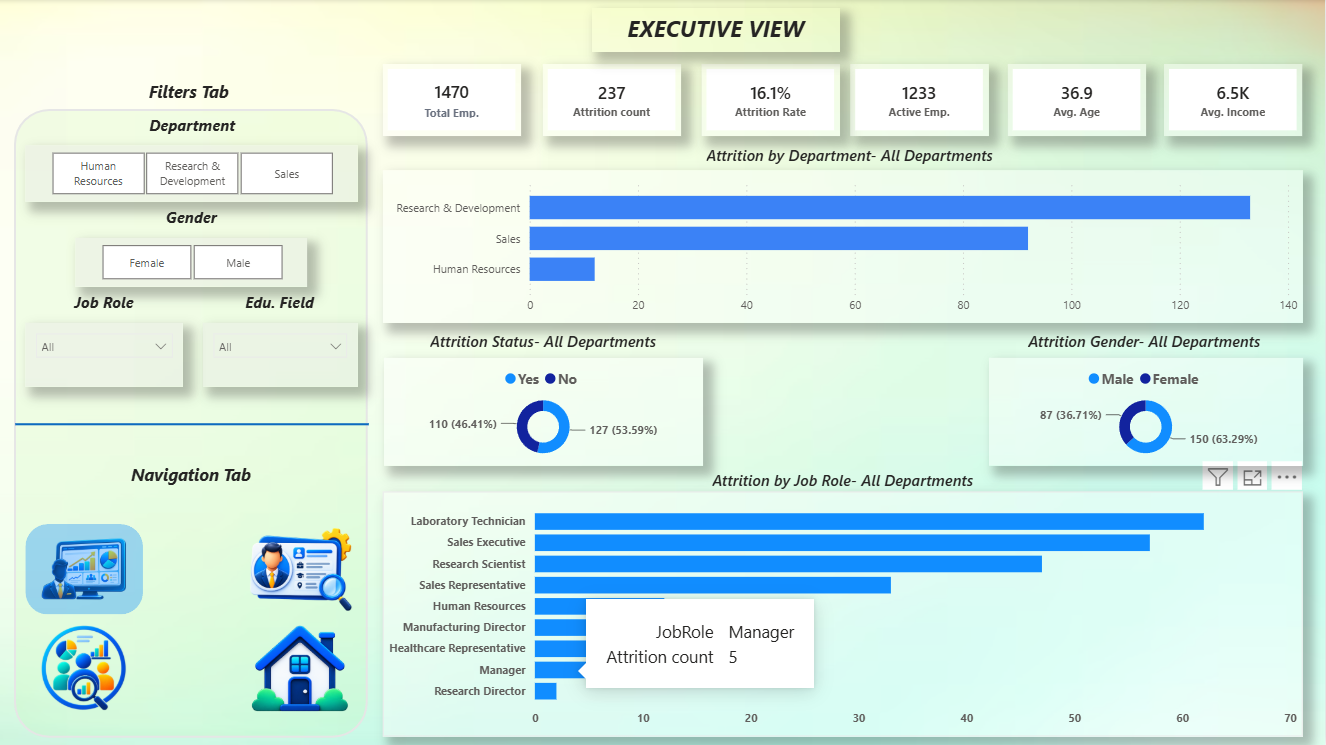

Layout of this report page (visuals, bound fields, positions):
{"tool":"powerbi","page":{"name":"Executive View","canvas":[1280,720],"ordinal":1},"visuals":[{"type":"cardVisual","fields":{"Data":["Key Measures.Total Employee"]},"box":[370.4,62.7,133.9,70],"z":0},{"type":"cardVisual","fields":{"Data":["Key Measures.Attrition count"]},"box":[524.8,62.7,133.9,70],"z":1000},{"type":"cardVisual","fields":{"Data":["Key Measures.Attrition Rate"]},"box":[678,62.7,133.9,70],"z":2000},{"type":"cardVisual","fields":{"Data":["Key Measures.Active Employees"]},"box":[821.6,62.7,133.9,70],"z":3000},{"type":"cardVisual","fields":{"Data":["Key Measures.Average Age"]},"box":[973.6,62.7,133.9,70],"z":4000},{"type":"cardVisual","fields":{"Data":["Key Measures.Average Monthly Income"]},"box":[1124.4,62.7,133.9,70],"z":5000},{"type":"clusteredBarChart","fields":{"Category":["hr_attrition_project hr_attrition.Department"],"Y":["Key Measures.Attrition count"]},"box":[370.4,165.3,887.9,147.2],"z":6000},{"type":"clusteredBarChart","title":"Attrition by Job Role","fields":{"Category":["hr_attrition_project hr_attrition.JobRole"],"Y":["Key Measures.Attrition count"]},"box":[370.4,475.3,887.9,236.5],"z":7000},{"type":"donutChart","title":"Attrition by Over Time","fields":{"Category":["hr_attrition_project hr_attrition.OverTime"],"Y":["Key Measures.Attrition count"]},"box":[371.6,346.2,307.6,103.8],"z":8000},{"type":"donutChart","title":"Attrition by Gender","fields":{"Category":["hr_attrition_project hr_attrition.Gender"],"Y":["Key Measures.Attrition count"]},"box":[955.5,346.2,302.8,103.8],"z":9000},{"type":"shape","box":[14.5,106.2,341.4,606.8],"z":10000},{"type":"slicer","fields":{"Values":["hr_attrition_project hr_attrition.Department"]},"box":[25.3,141.2,320.9,54.3],"z":11000},{"type":"slicer","fields":{"Values":["hr_attrition_project hr_attrition.EducationField"]},"box":[196.6,312.5,149.6,61.5],"z":12000},{"type":"slicer","fields":{"Values":["hr_attrition_project hr_attrition.Gender"]},"box":[73.6,230.4,224.4,47.1],"z":13000},{"type":"slicer","fields":{"Values":["hr_attrition_project hr_attrition.JobRole"]},"box":[25.3,312.5,152,61.5],"z":14000},{"type":"textbox","box":[153.2,195.4,65.1,35],"z":15000},{"type":"textbox","box":[230.4,277.5,80.8,35],"z":16000},{"type":"textbox","box":[59.1,277.5,84.5,35],"z":17000},{"type":"textbox","box":[138.7,106.2,95.3,35],"z":18000},{"type":"cardVisual","fields":{"Data":["Key Measures.Department Title"]},"box":[555,121.9,532,55.5],"z":19000},{"type":"cardVisual","fields":{"Data":["Key Measures.Status Title"]},"box":[357.1,299.2,336.6,60.3],"z":20000},{"type":"cardVisual","fields":{"Data":["Key Measures.Gender Title"]},"box":[931.4,301.6,348.7,55.5],"z":21000},{"type":"cardVisual","fields":{"Data":["Key Measures.Job Role Title"]},"box":[623.7,435.5,381.2,55.5],"z":22000},{"type":"textbox","box":[35,73.6,300.4,32.6],"z":23000},{"type":"textbox","box":[571.9,8.4,240.1,42.2],"z":24000},{"type":"image","box":[25,506.2,117,87],"z":25000},{"type":"image","box":[230,506.2,117,87],"z":26000},{"type":"image","box":[25,605,113.8,87.5],"z":27000},{"type":"shape","box":[16.2,386.2,341.2,48.8],"z":28000},{"type":"textbox","box":[35,442.5,300.4,32.6],"z":29000},{"type":"shape","box":[25,506.2,113.8,87.5],"z":29001},{"type":"image","box":[233.8,605,112.5,87.5],"z":29002}]}

Visuals, with their boxes in screenshot pixels (x1, y1, x2, y2), scaled from the page's 1280x720 canvas onto the 1326x745 screenshot:
cardVisual - Key Measures.Total Employee: l=384, t=65, r=522, b=137
cardVisual - Key Measures.Attrition count: l=544, t=65, r=682, b=137
cardVisual - Key Measures.Attrition Rate: l=702, t=65, r=841, b=137
cardVisual - Key Measures.Active Employees: l=851, t=65, r=990, b=137
cardVisual - Key Measures.Average Age: l=1009, t=65, r=1147, b=137
cardVisual - Key Measures.Average Monthly Income: l=1165, t=65, r=1304, b=137
clusteredBarChart - hr_attrition_project hr_attrition.Department x Key Measures.Attrition count: l=384, t=171, r=1304, b=323
"Attrition by Job Role" clusteredBarChart: l=384, t=492, r=1304, b=737
"Attrition by Over Time" donutChart: l=385, t=358, r=704, b=466
"Attrition by Gender" donutChart: l=990, t=358, r=1304, b=466
shape: l=15, t=110, r=369, b=738
slicer - hr_attrition_project hr_attrition.Department: l=26, t=146, r=359, b=202
slicer - hr_attrition_project hr_attrition.EducationField: l=204, t=323, r=359, b=387
slicer - hr_attrition_project hr_attrition.Gender: l=76, t=238, r=309, b=287
slicer - hr_attrition_project hr_attrition.JobRole: l=26, t=323, r=184, b=387
textbox: l=159, t=202, r=226, b=238
textbox: l=239, t=287, r=322, b=323
textbox: l=61, t=287, r=149, b=323
textbox: l=144, t=110, r=242, b=146
cardVisual - Key Measures.Department Title: l=575, t=126, r=1126, b=184
cardVisual - Key Measures.Status Title: l=370, t=310, r=719, b=372
cardVisual - Key Measures.Gender Title: l=965, t=312, r=1325, b=369
cardVisual - Key Measures.Job Role Title: l=646, t=451, r=1041, b=508
textbox: l=36, t=76, r=347, b=110
textbox: l=592, t=9, r=841, b=52
image: l=26, t=524, r=147, b=614
image: l=238, t=524, r=359, b=614
image: l=26, t=626, r=144, b=717
shape: l=17, t=400, r=370, b=450
textbox: l=36, t=458, r=347, b=492
shape: l=26, t=524, r=144, b=614
image: l=242, t=626, r=359, b=717
